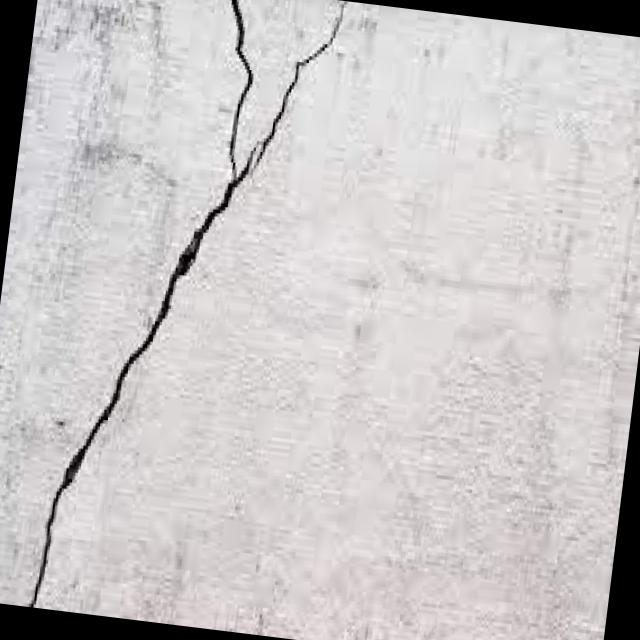crack: (31, 0, 346, 633)
